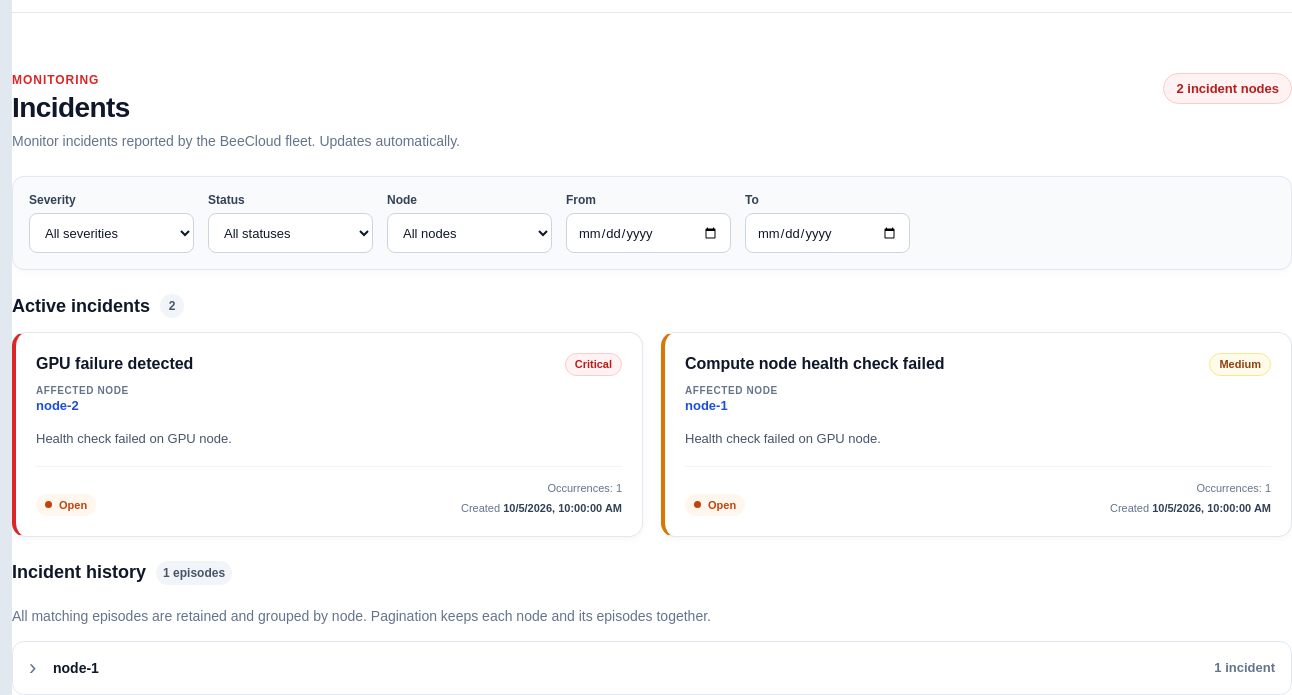
Test: IncidentsSection › groups resolved incidents under history after active incidents
(page scrolled)
Expected: the heading "GPU failure detected" is shown, [36, 353, 193, 375]
Expected: the heading "Compute node health check failed" is shown, [685, 353, 945, 375]
Click the heading "node-1 1 incident".
click(76, 668)  # box [53, 660, 1275, 676]
(page scrolled)
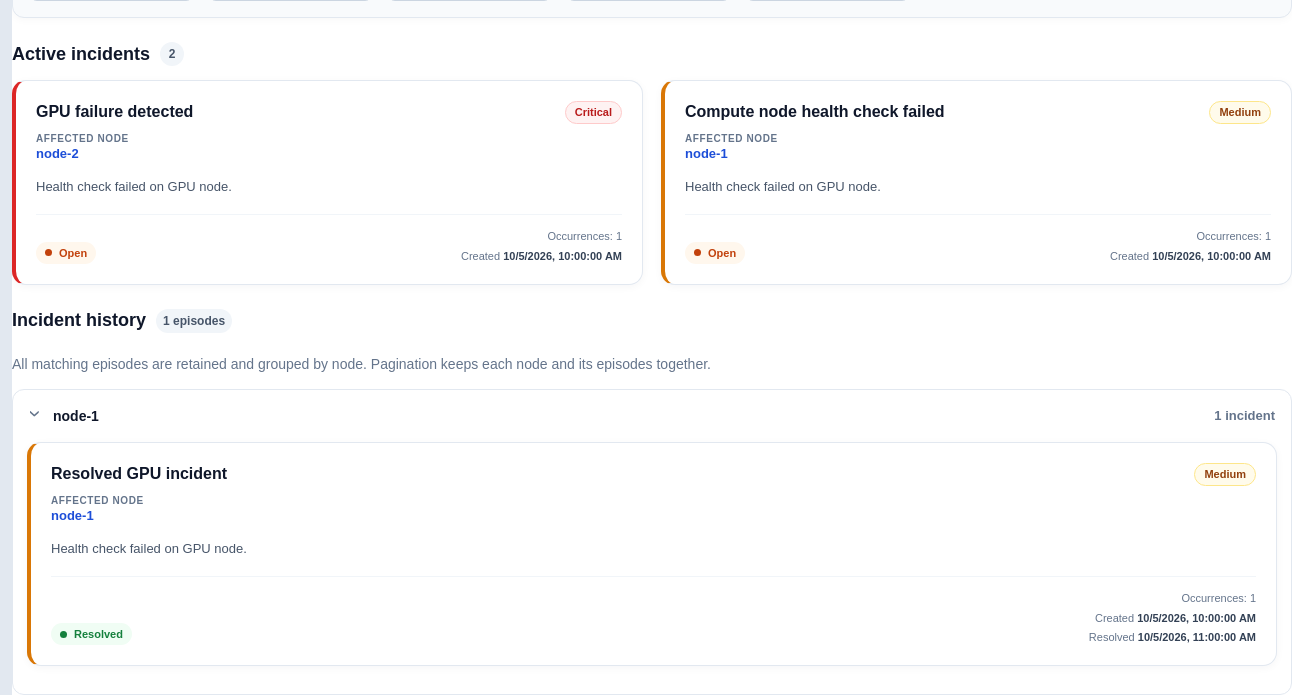
Expected: the heading "Resolved GPU incident" is shown, [51, 463, 227, 485]
